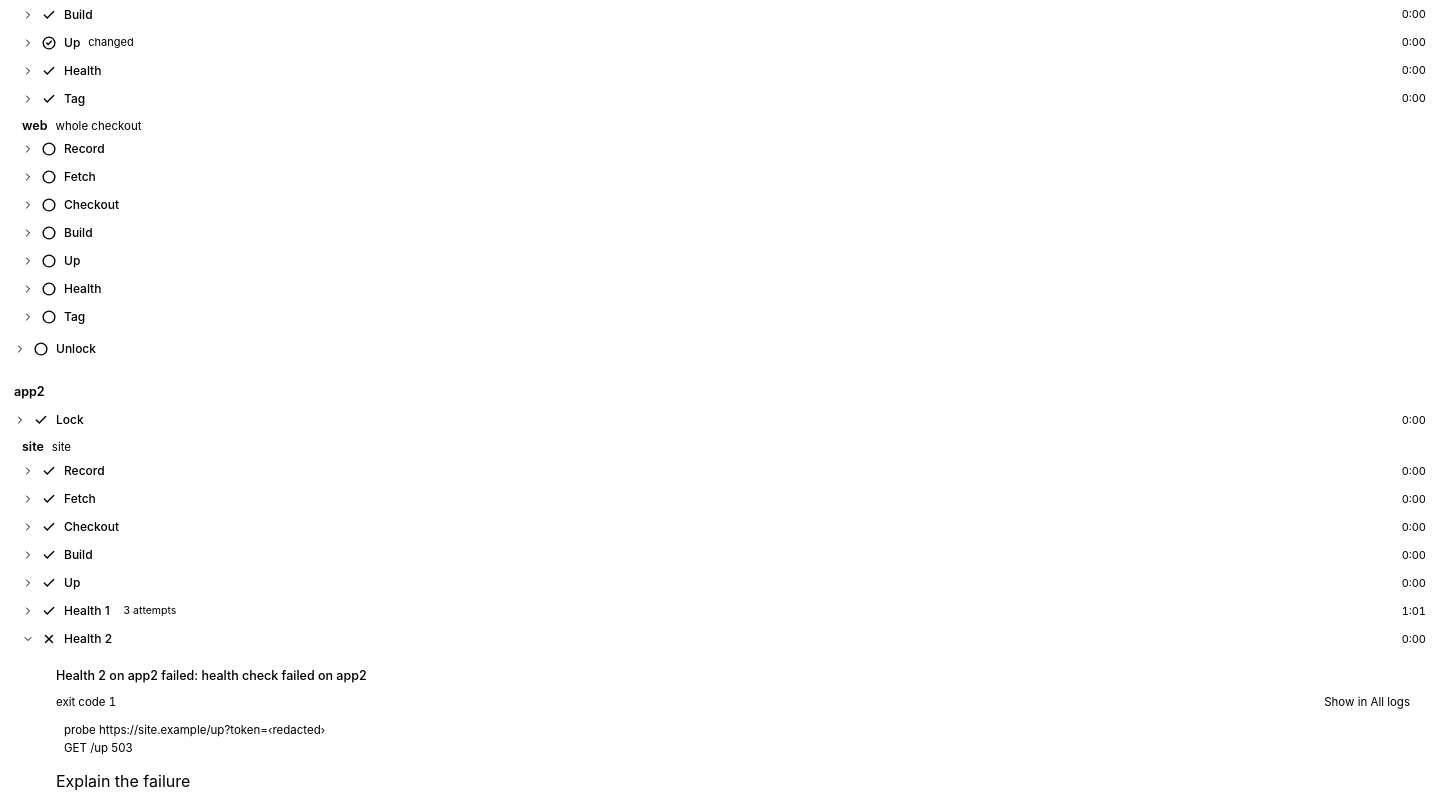
Test: Ansible steps in the release view › a failed task auto-expands with its redacted output, exit code, failure message and the AI help
(page scrolled)
Expected: the text "Health 2 on app2 failed: health check failed on app2" is shown, x1=56 y1=668 x2=367 y2=683
Expected: the text "exit code 1" is shown, x1=56 y1=694 x2=116 y2=711
What coordinates should you click on to do the following:
click the button with aria-label "Health 1 on app2: done, 3 attempts, 1:01"
I would click on:
 (87, 610)
Its box is x1=16 y1=597 x2=1432 y2=625.
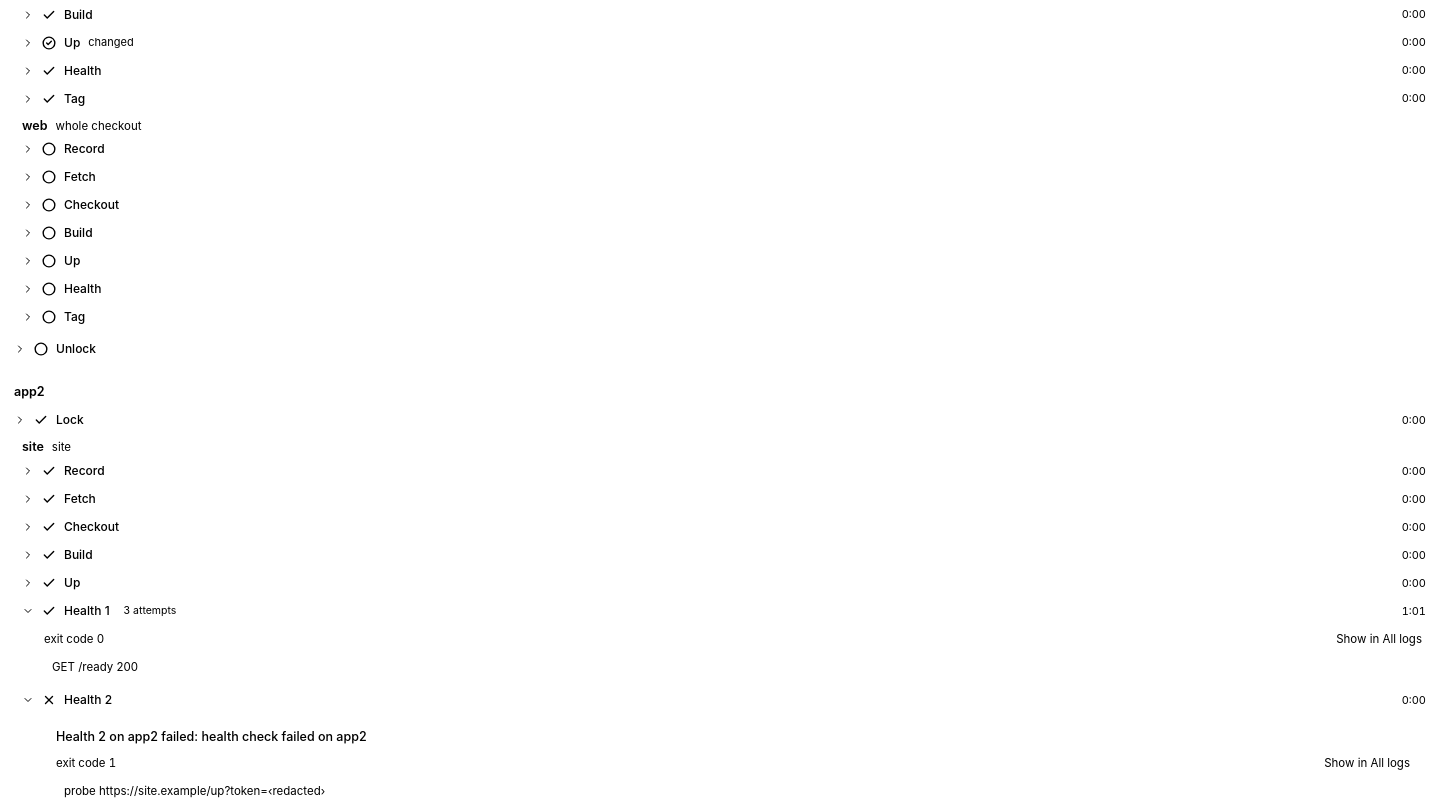
Expected: the heading "app2" is shown, x1=14 y1=383 x2=45 y2=402
Result: the text "GET /ready 200" is shown at x1=52 y1=660 x2=138 y2=674
